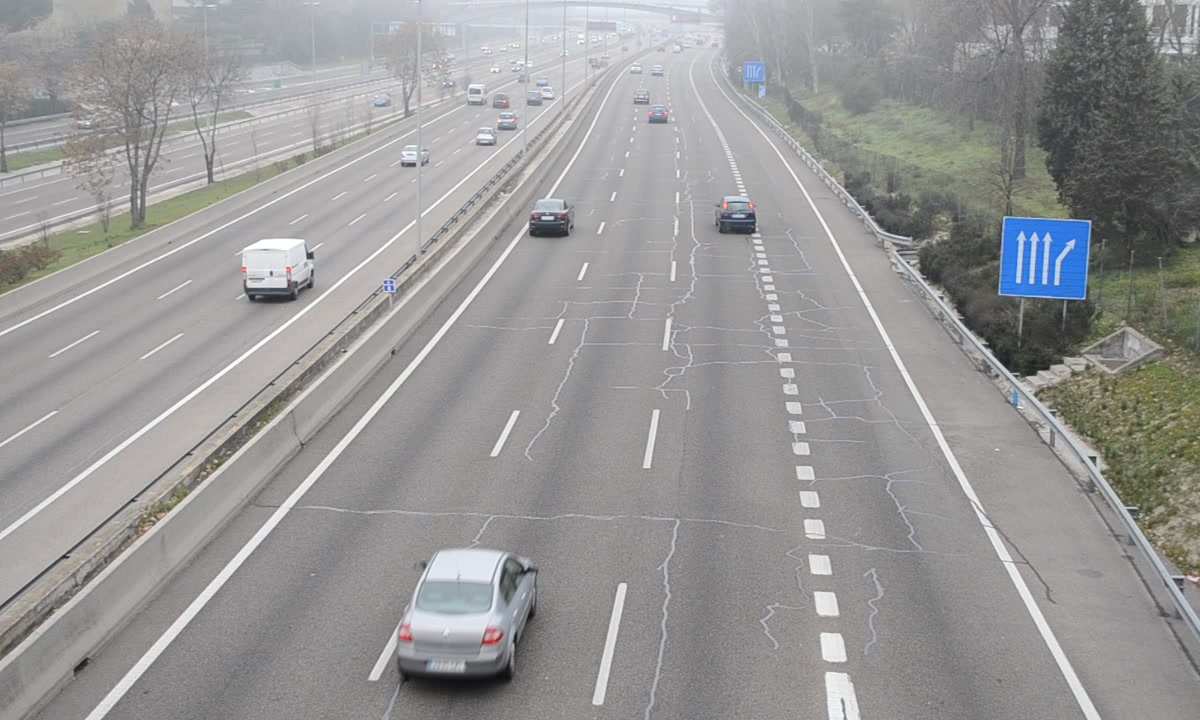car: (397, 552, 538, 679), (529, 198, 572, 234), (718, 195, 757, 233)
